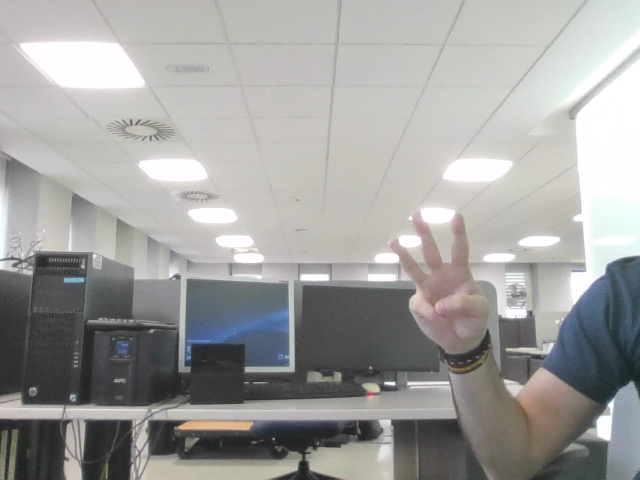3Dedos: (399, 224, 479, 322)
